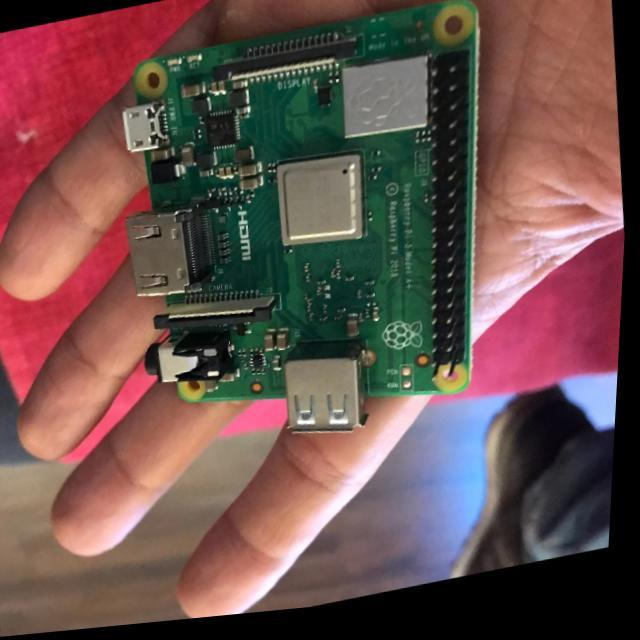Raspberry-Pi-3-A-: (122, 1, 480, 433)
